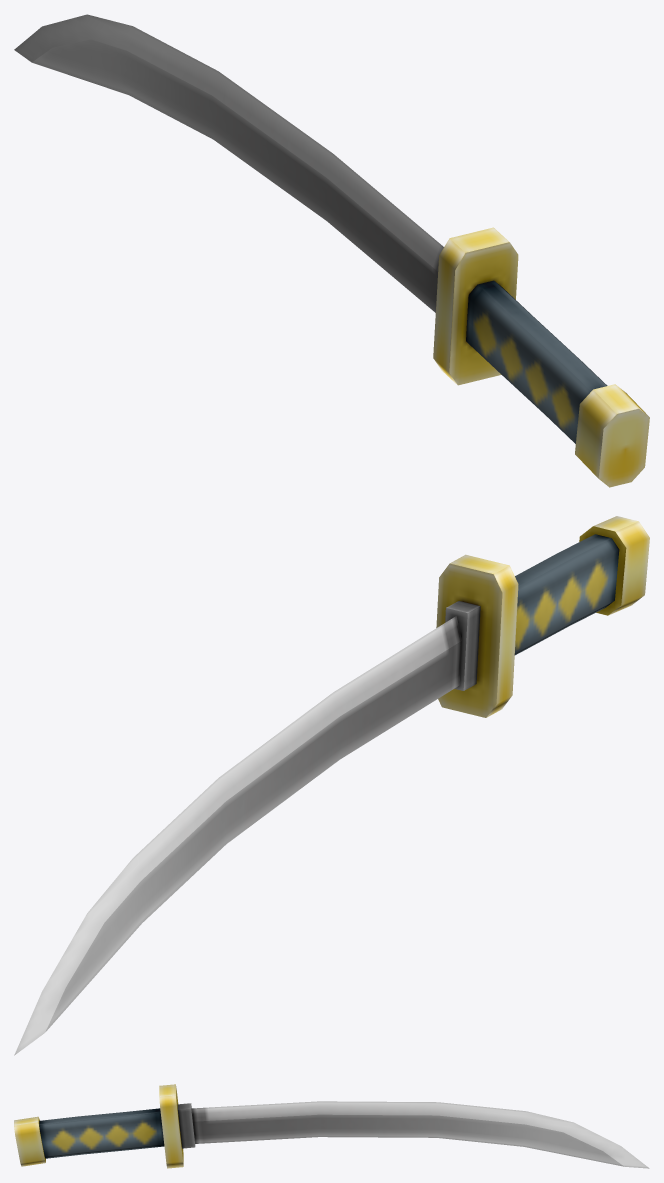
File: sword014.fbx
3 views of the same model, one above another, from view 1: azimuth 30°, elevation 25°; view 2: azimuth 150°, elevation 25°; view 3: azimuth 270°, elevation 25° (orthographic). The views are drawn at different scales.
Parts seen in each view (by area): view 1: sword014_1; view 2: sword014_1; view 3: sword014_1.
Boxes of the visible parts, x1,y1,x2,y2 form: sword014_1: [14, 14, 649, 487]; sword014_1: [14, 516, 649, 1055]; sword014_1: [14, 1084, 649, 1168].
Size of the model in its own units: 0.0477 by 0.1094 by 0.8009.
